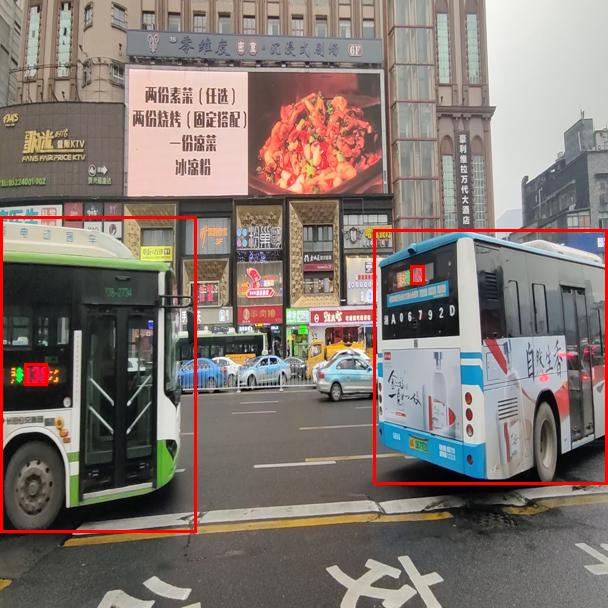bus: (0, 216, 196, 532), (373, 229, 607, 484)
screen: (24, 363, 47, 385), (410, 265, 424, 284)
